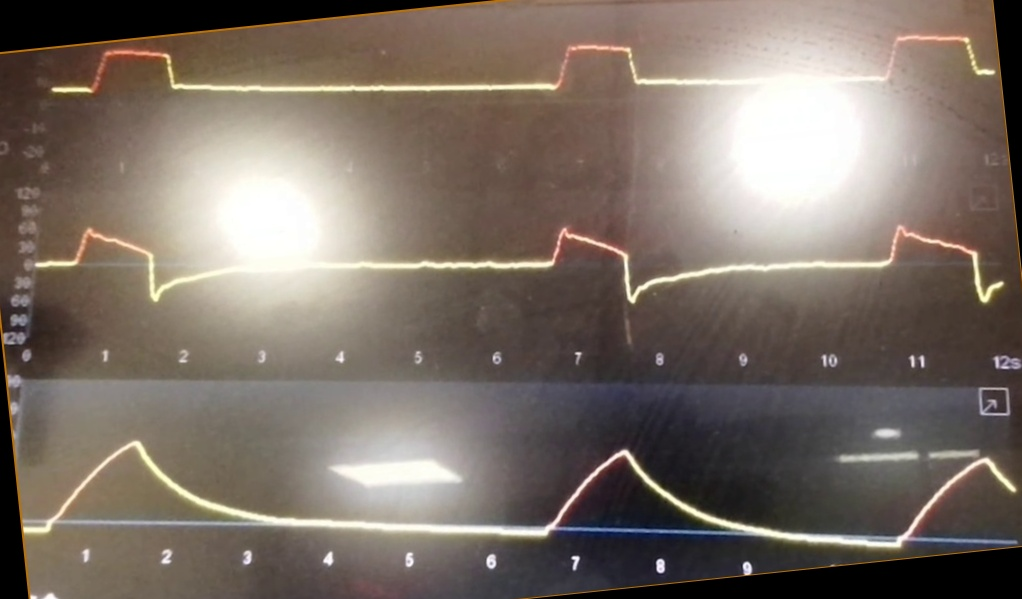Normal Flow: (37, 189, 1004, 319)
Normal Volume: (29, 411, 1022, 556)
